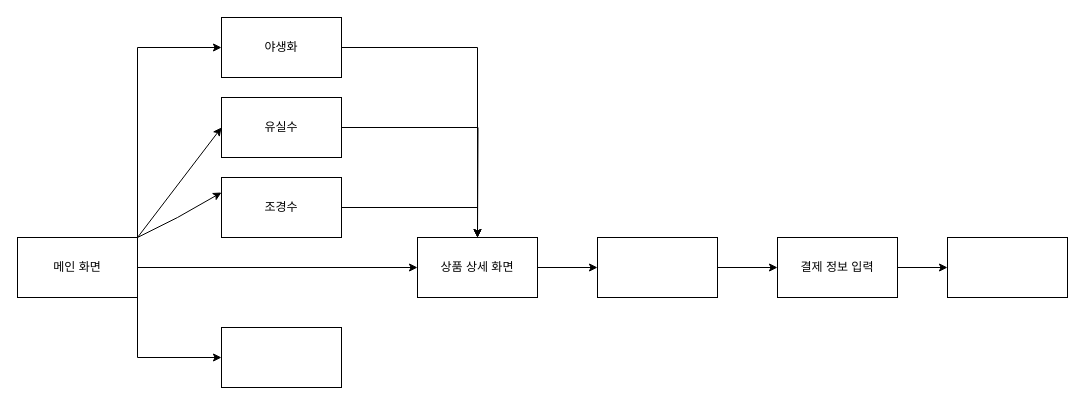
This 1085x405 diagram has some shape labels left out. The shapes that lost their labels are listed below. From the top down, each one's centre as x and y in pixels, then its label:
At point (657, 267): "장바구니".
At point (1007, 267): "주문완료".
At point (281, 357): "문의하기".
